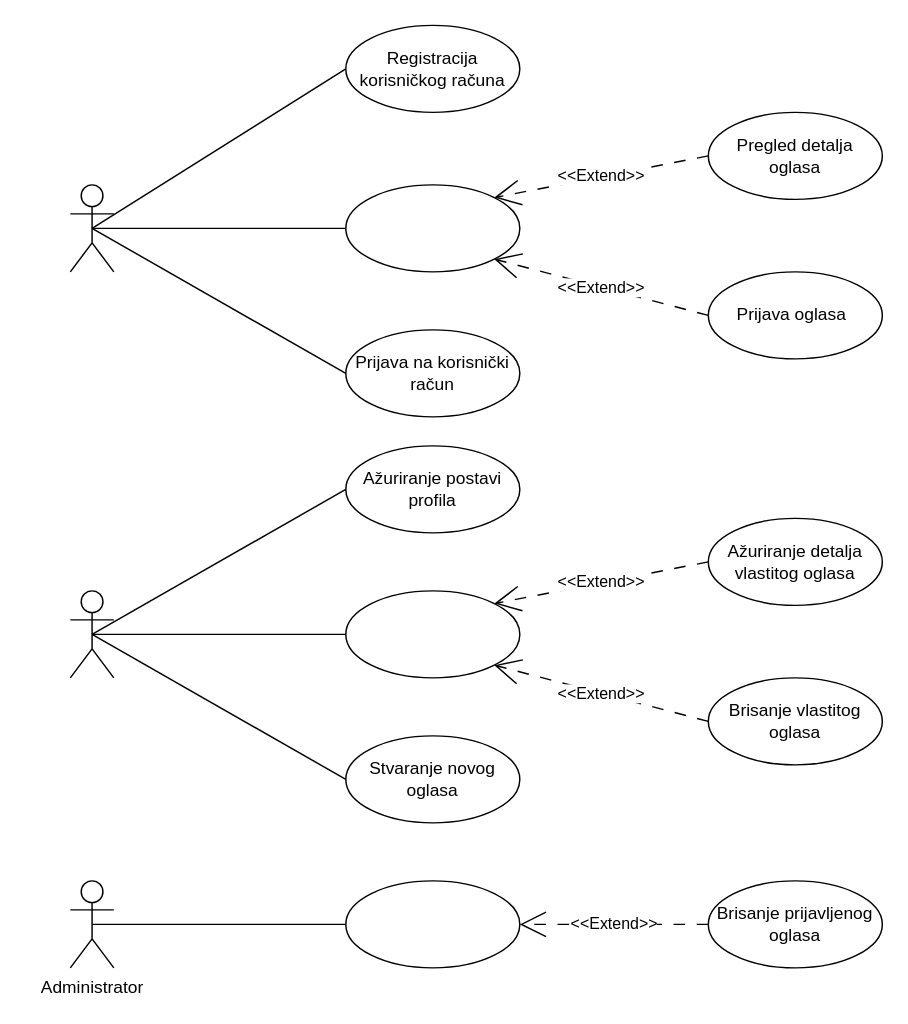
Some shapes in this 908 by 1024 pixel diagram are drawn without their labels. The shapes that lost their labels are listed below. From the top down, each one's box as (x1, y1, x2, y2) in pixels, then its label:
(69, 183, 114, 272): Običan korisnik
(344, 183, 520, 272): Pregled objavljenih oglasa
(69, 589, 114, 678): Prijavljen korisnik
(344, 589, 520, 678): Pregled vlastitih oglasa
(344, 879, 520, 968): Pregled prijavljenih oglasa
